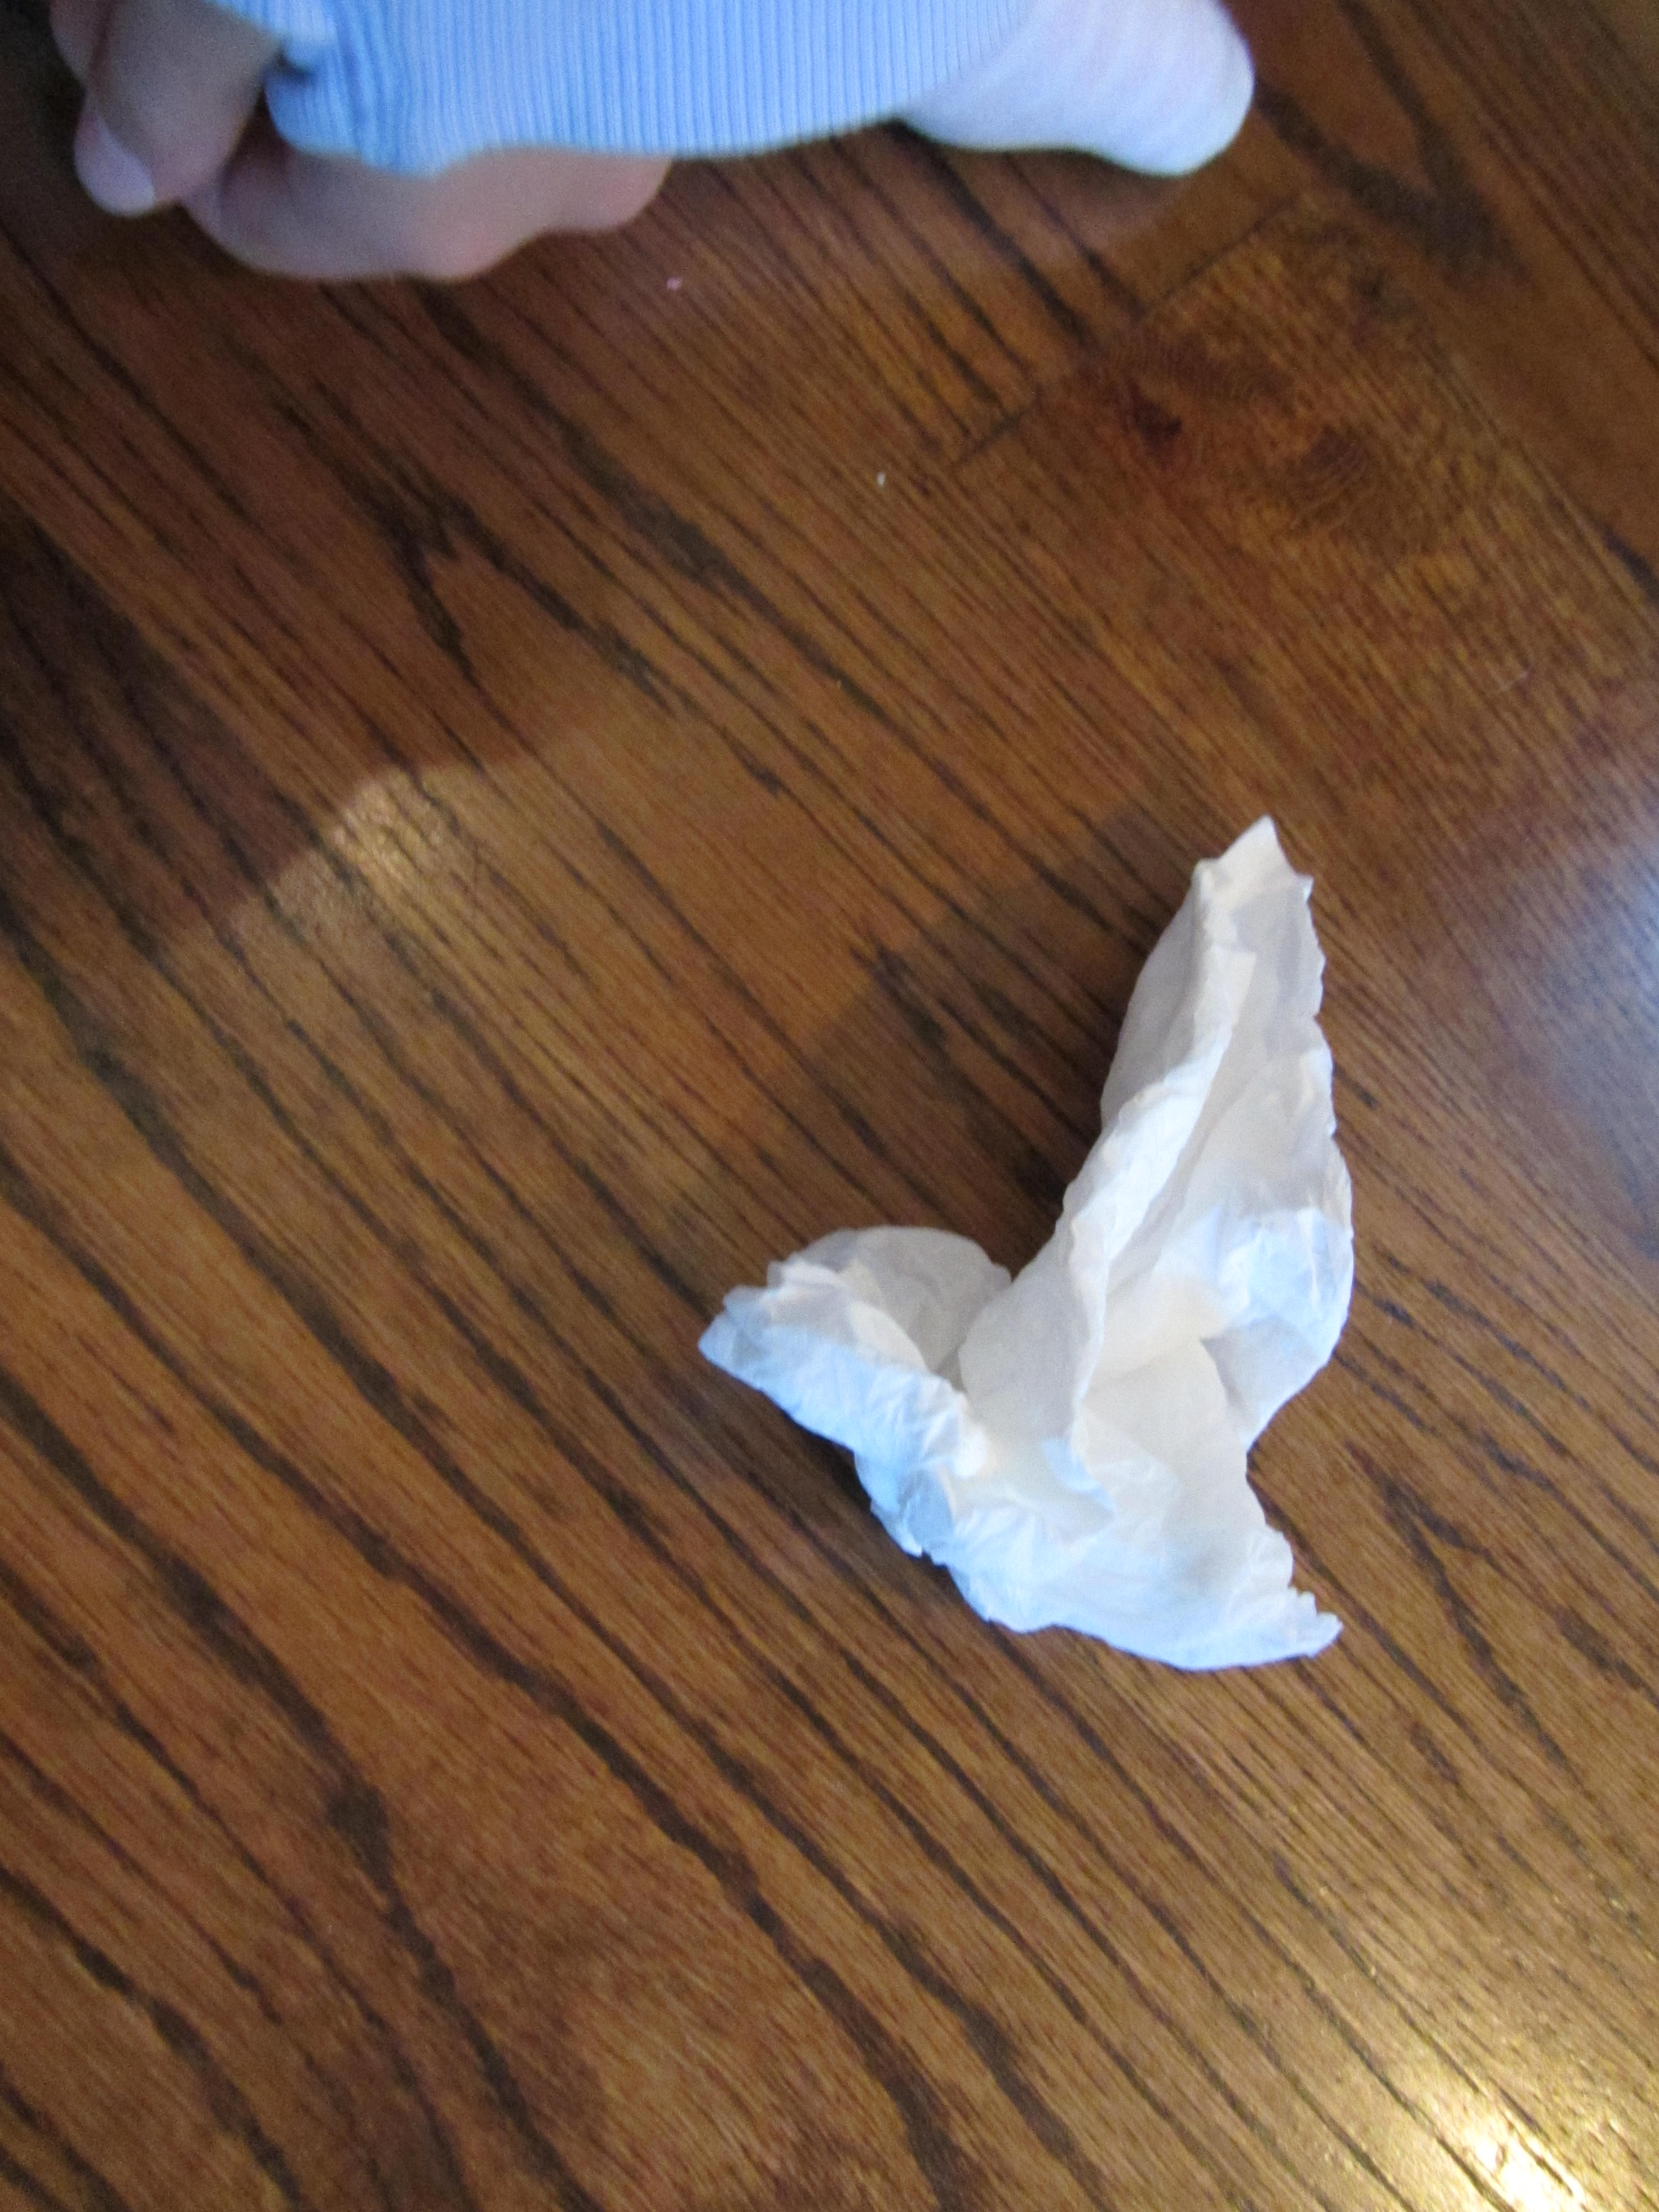tissue: (681, 850, 1432, 1695)
